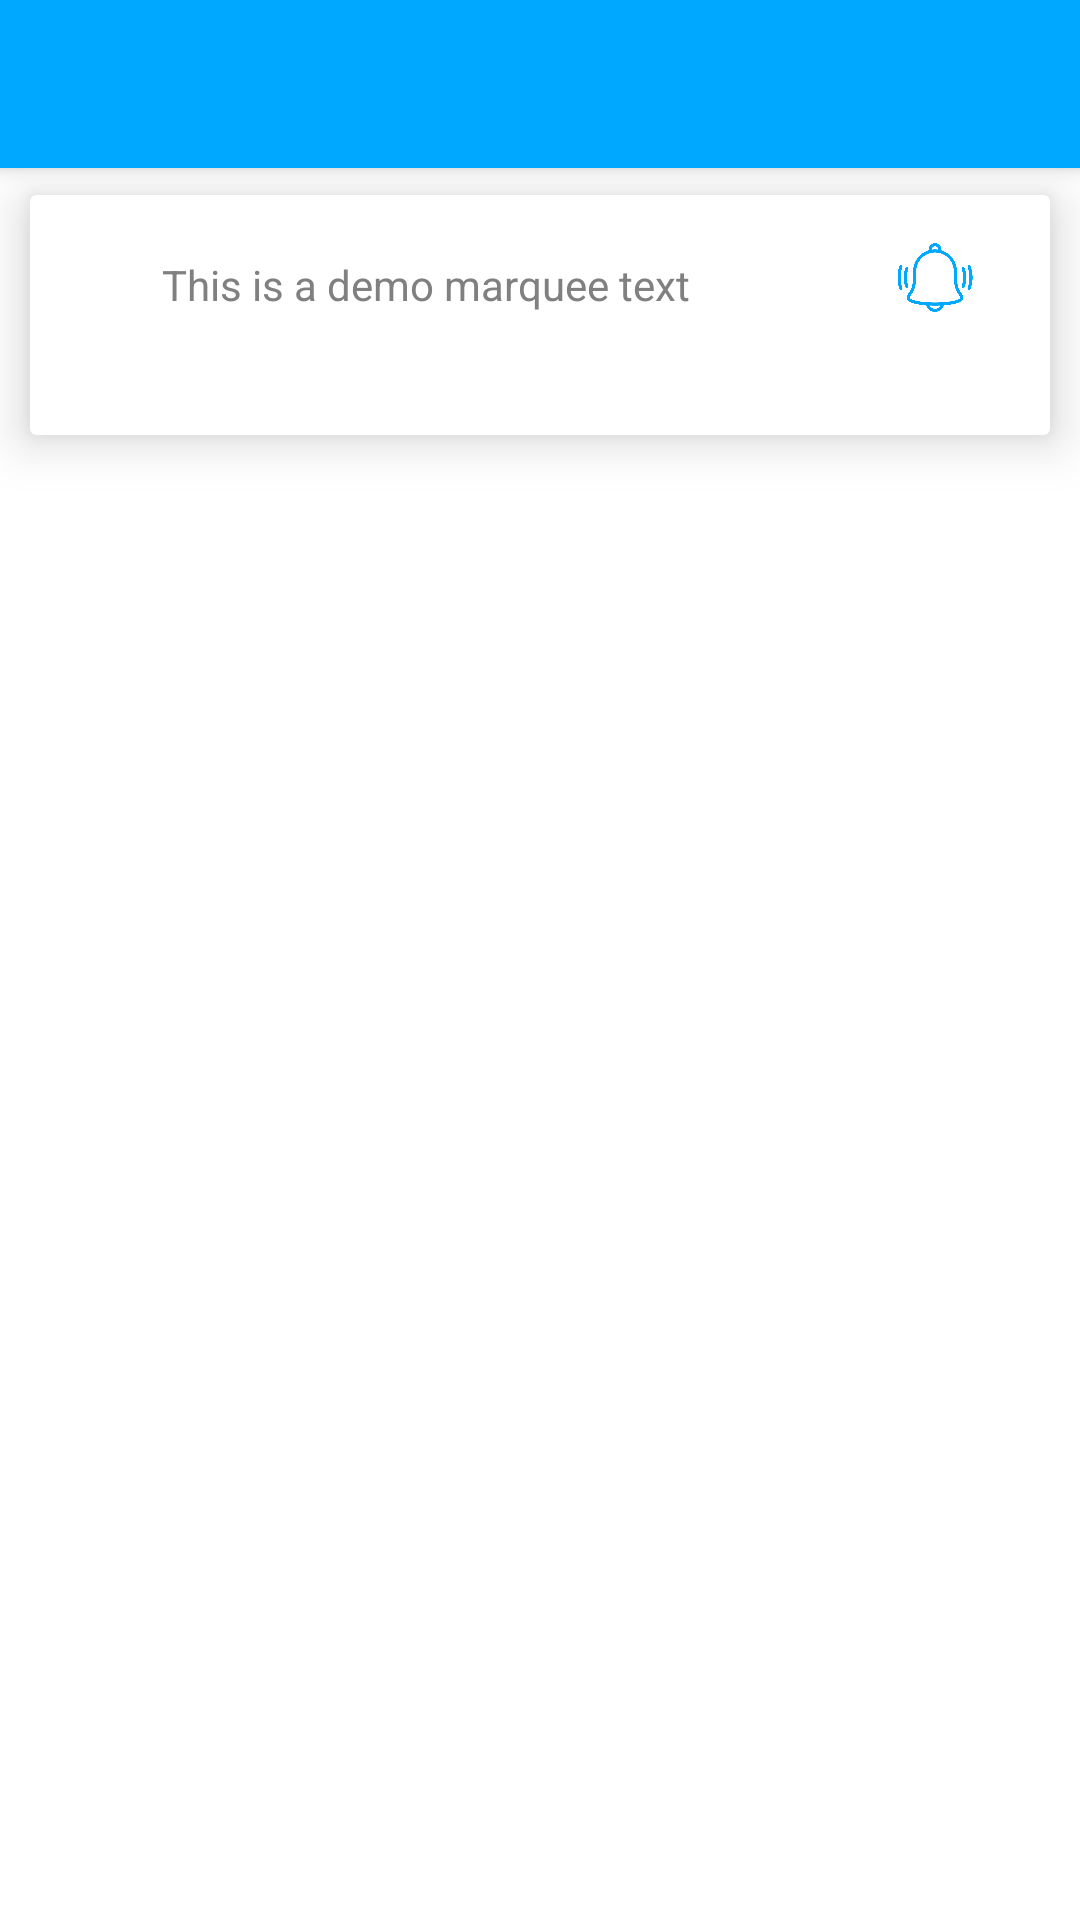

Icon bounding boxes for this 1080w x 1920h phone screenshot, format Rect(x1, y1, x2, y2):
alarm: Rect(898, 243, 973, 312)
